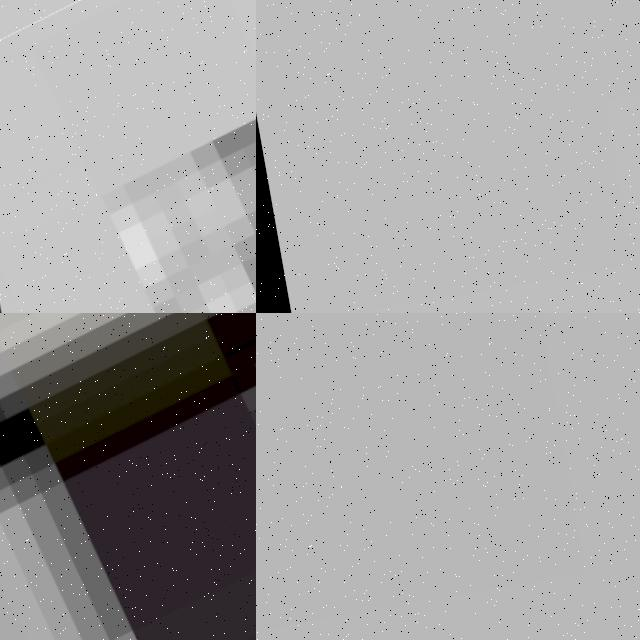drone: (0, 313, 256, 640), (0, 0, 256, 313)
